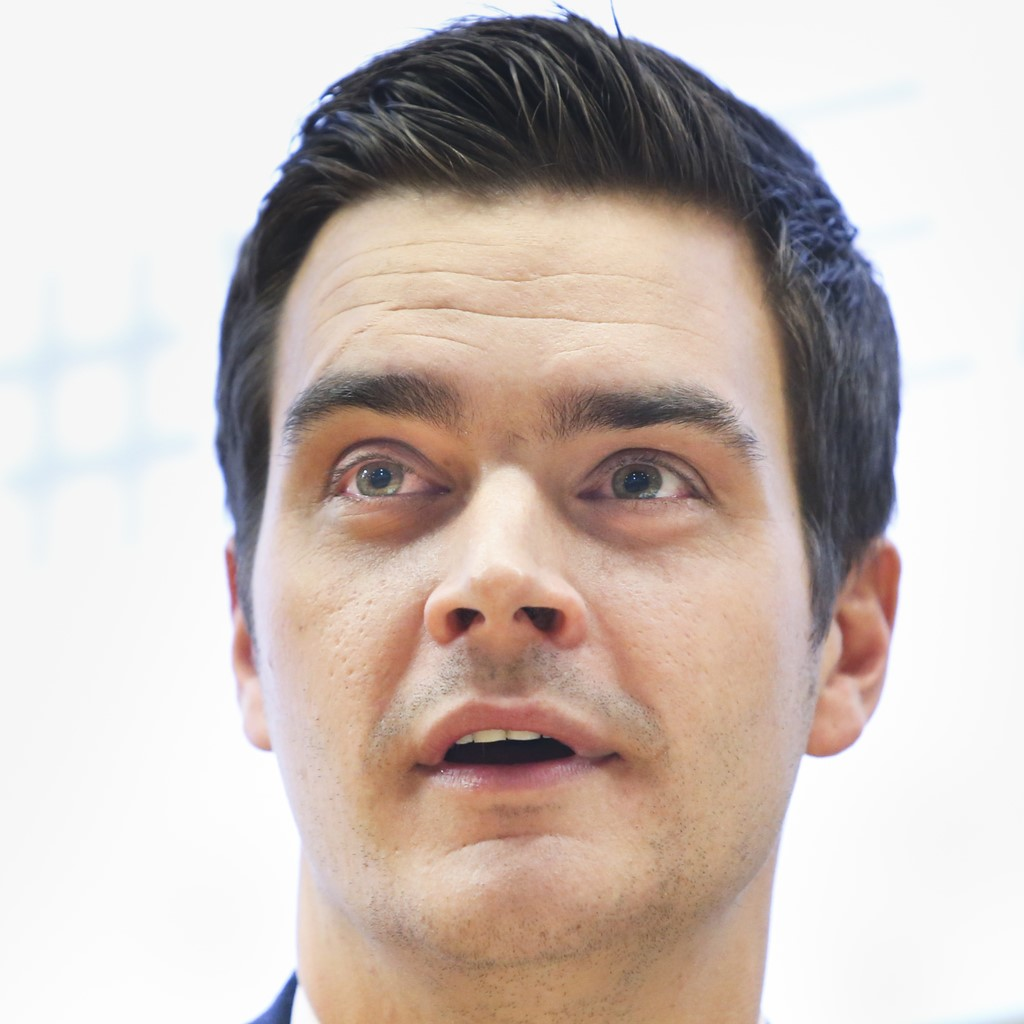sin_mascara: (231, 111, 893, 976)
